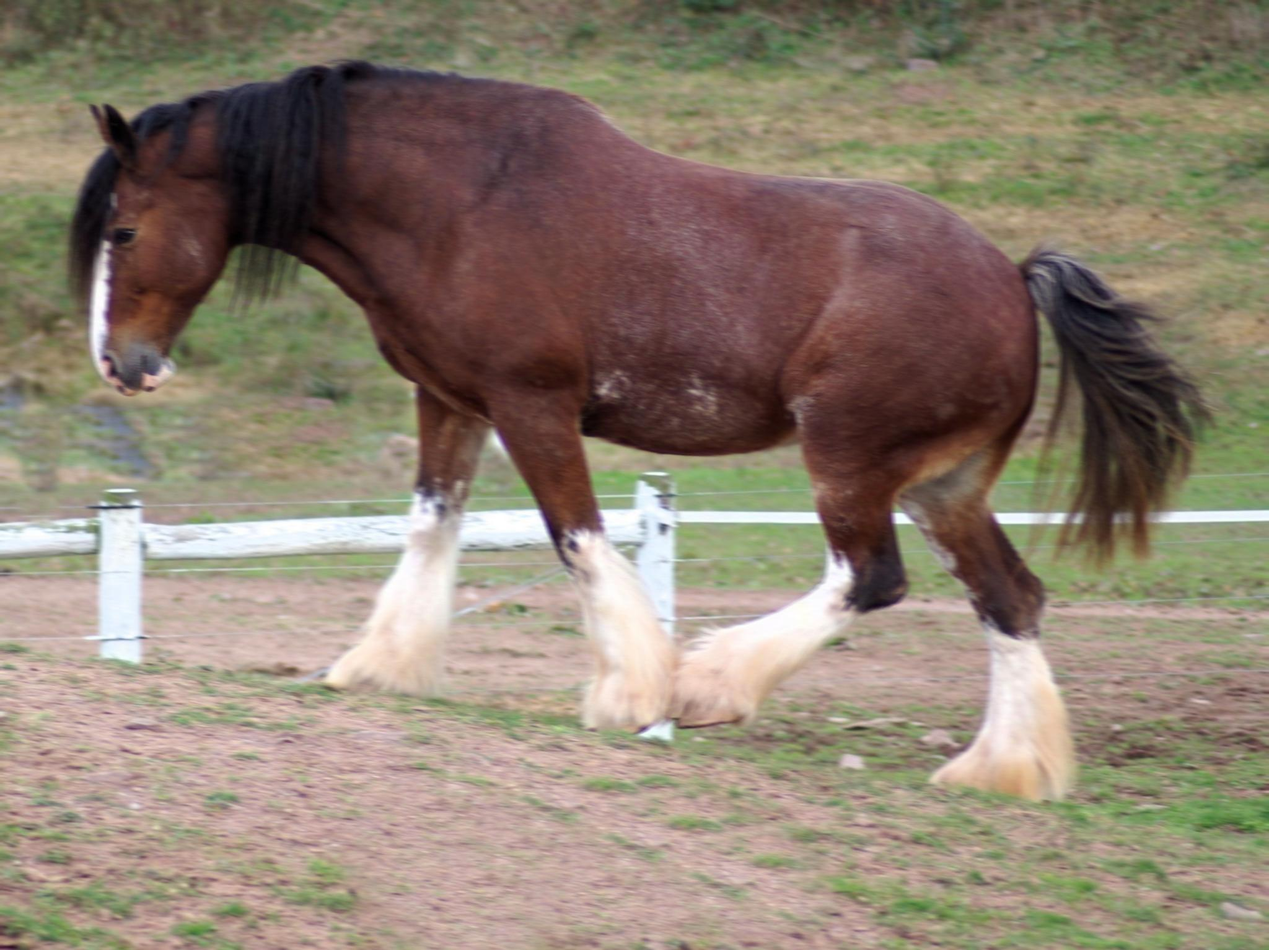horse: (50, 40, 1226, 814)
